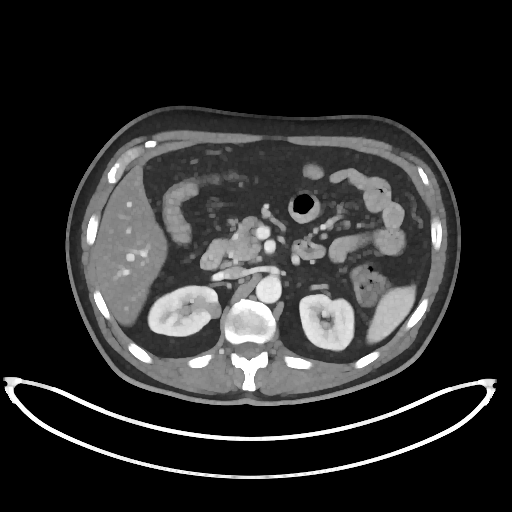Lesion: (201, 296, 224, 321)
